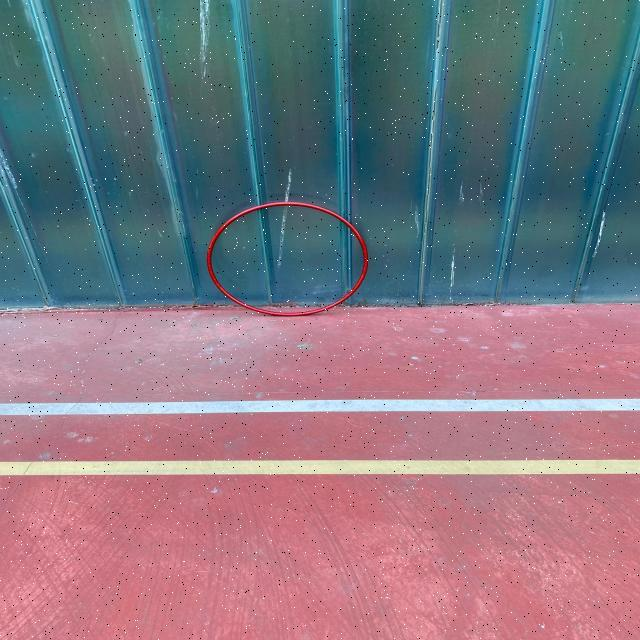Circle: (206, 201, 370, 317)
